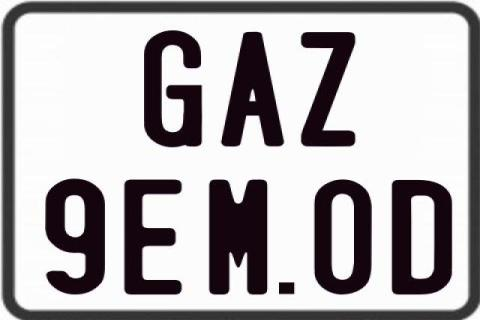0: (45, 179, 107, 297), (312, 179, 371, 296)
A: (221, 30, 285, 150)
D: (390, 180, 450, 296)
E: (123, 178, 183, 296)
G: (143, 29, 205, 149)
M: (207, 179, 270, 297)
Z: (300, 30, 354, 148)
